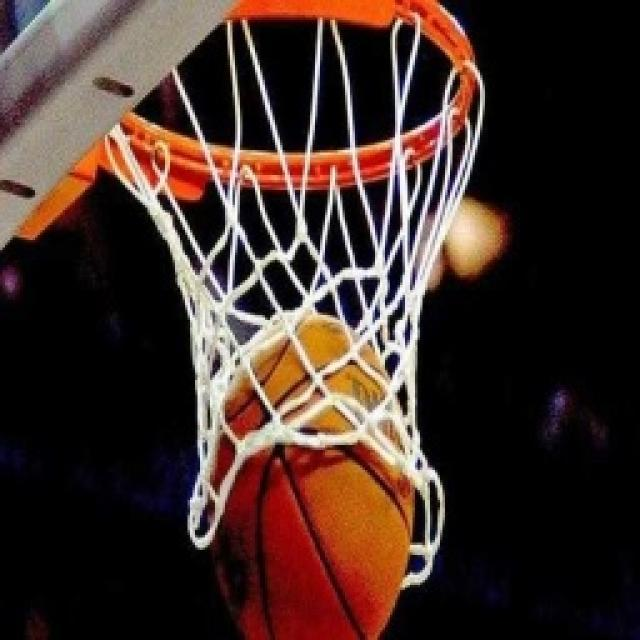rim: (194, 299, 424, 640)
